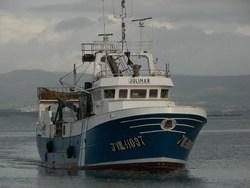otherboat: (29, 1, 209, 175)
